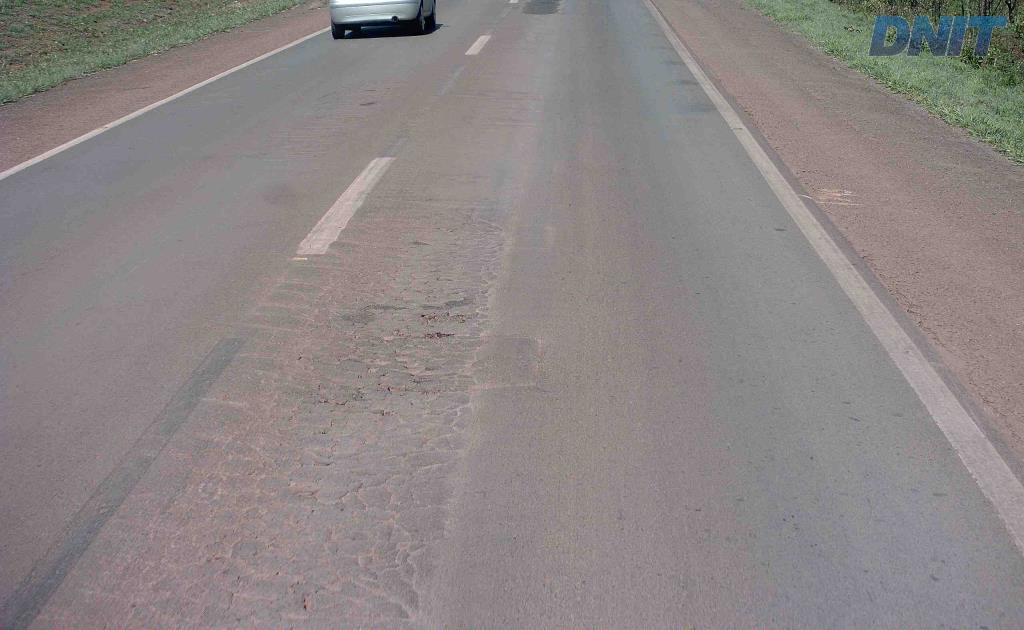crack: (410, 296, 478, 346), (342, 303, 412, 331)
